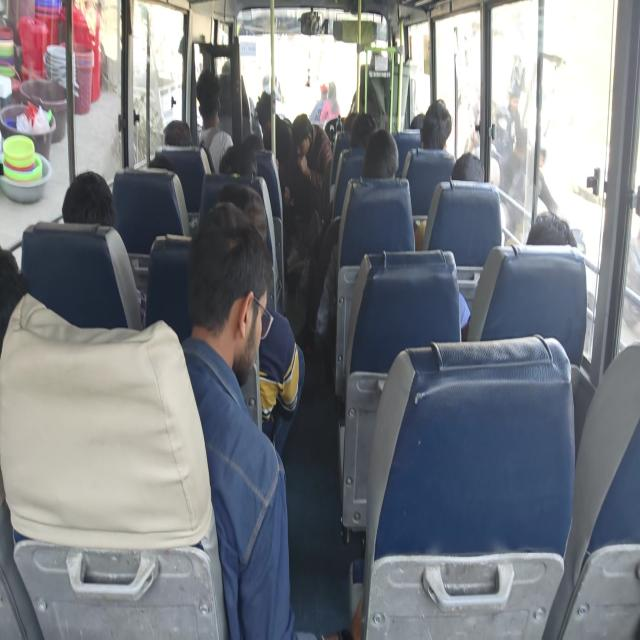person: (180, 200, 363, 638), (214, 183, 306, 456), (314, 129, 400, 346), (459, 211, 578, 338), (61, 170, 146, 328), (289, 113, 332, 213), (196, 69, 233, 173), (62, 170, 116, 228), (526, 210, 577, 248), (362, 128, 398, 179), (420, 99, 452, 151), (349, 112, 378, 149), (451, 152, 485, 182), (320, 81, 340, 122), (163, 119, 193, 146), (310, 82, 328, 122)
